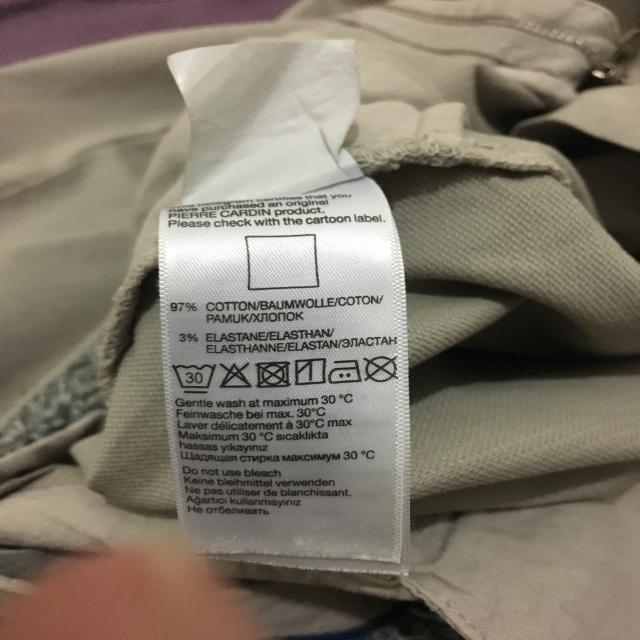30C: (171, 358, 219, 396)
DN_bleach: (220, 358, 253, 393)
DN_dry_clean: (363, 353, 402, 385)
DN_tumble_dry: (254, 358, 293, 392)
iron_medium: (329, 357, 363, 384)
